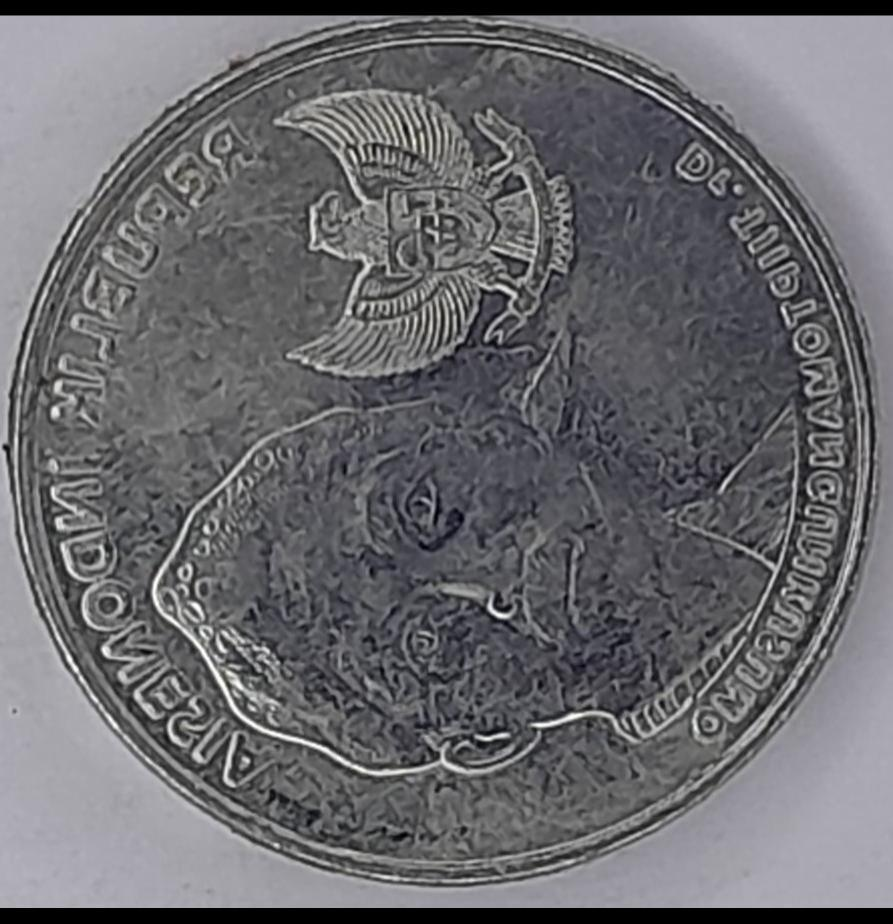coin_200_e2016: (0, 16, 893, 924)
